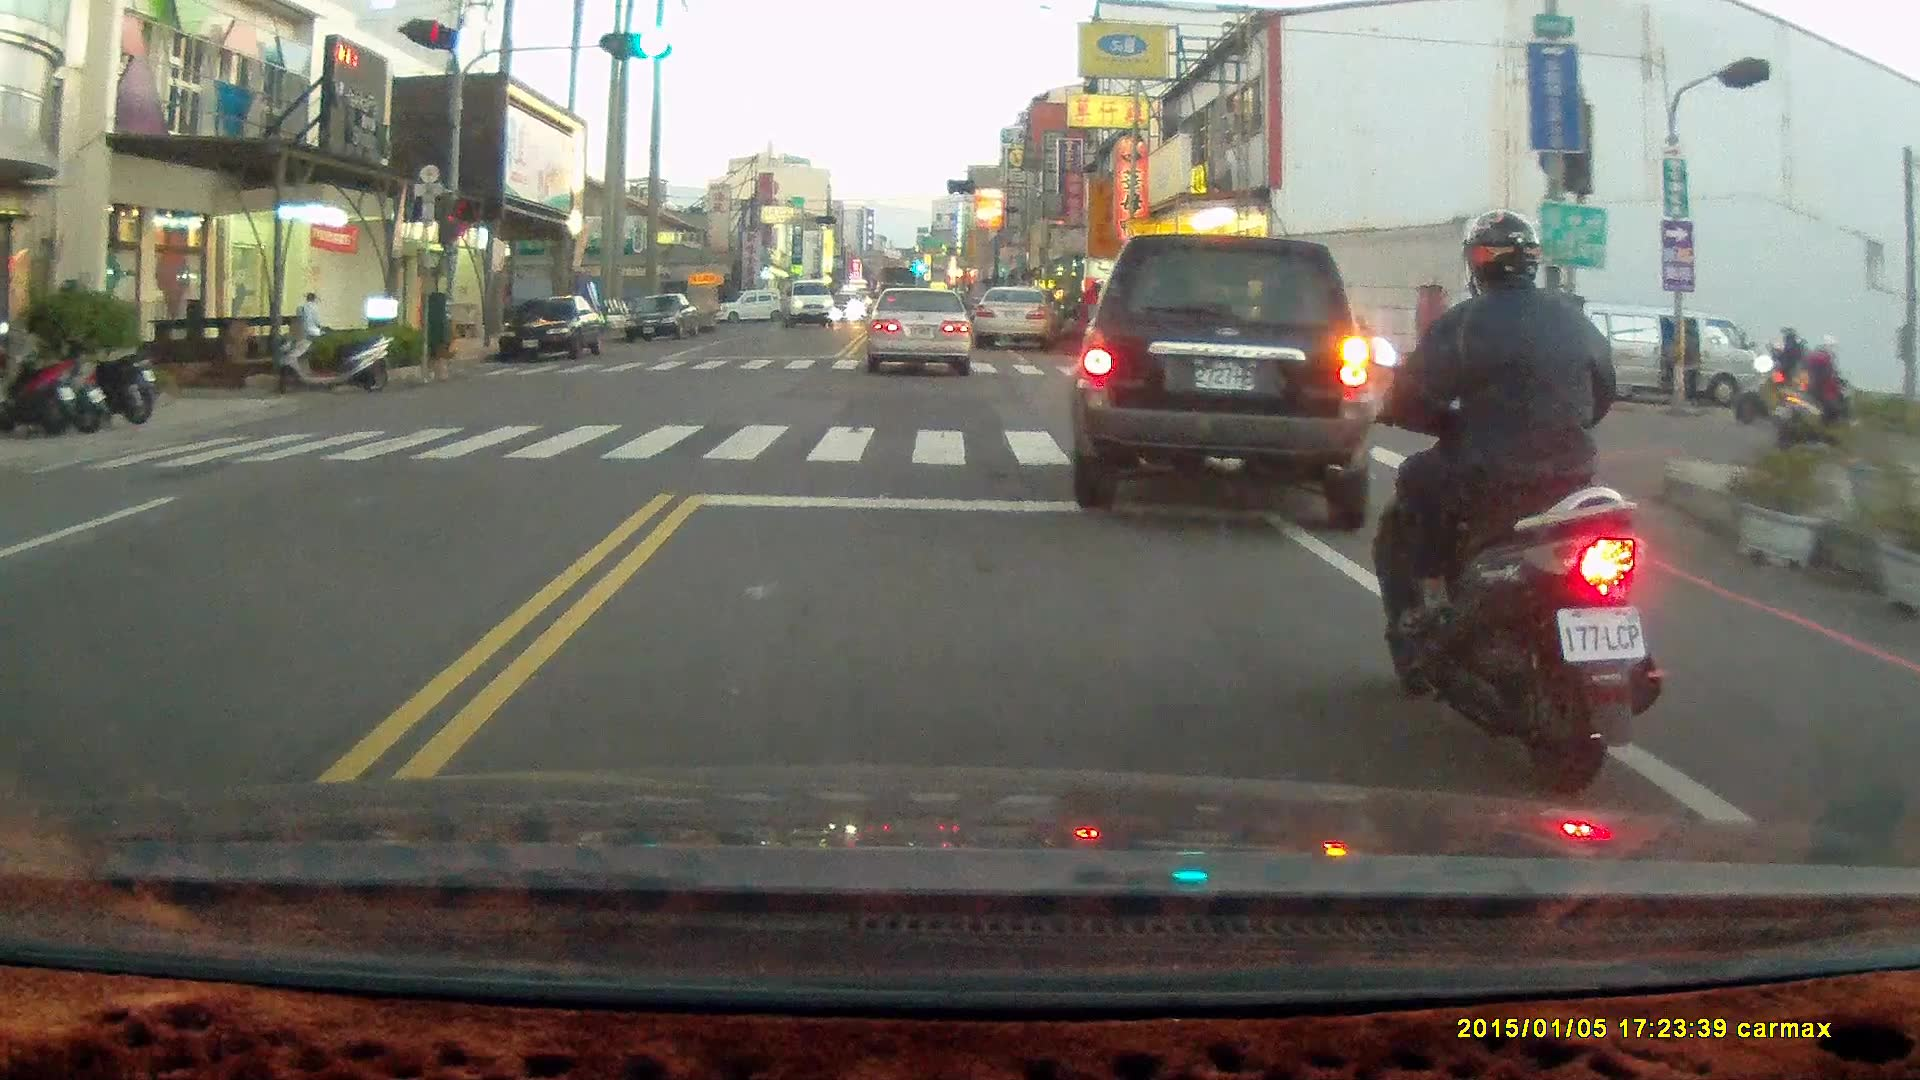pedestrian: (295, 291, 328, 356), (1678, 320, 1702, 400)
rider: (1356, 210, 1662, 794), (1775, 333, 1858, 463), (1736, 323, 1820, 429)
vehicle: (1070, 231, 1379, 525), (1556, 302, 1781, 411), (866, 292, 979, 384), (503, 298, 601, 367), (970, 283, 1058, 359), (625, 295, 703, 348), (781, 280, 838, 334)
